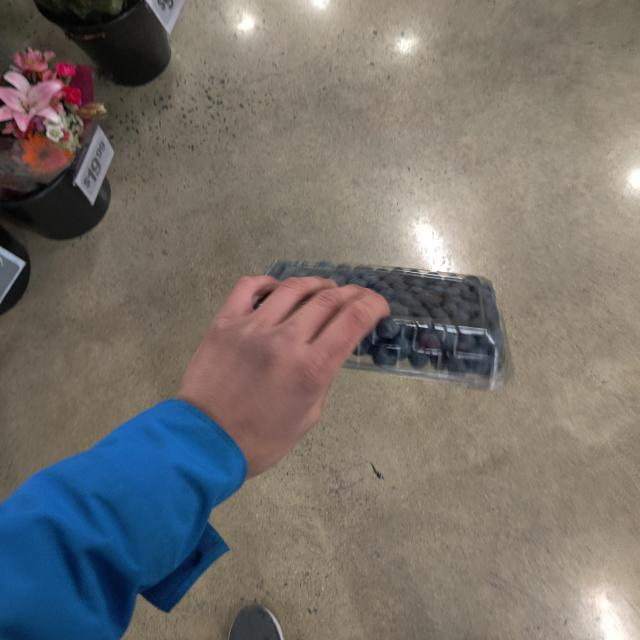Blueberries: (250, 237, 517, 401)
